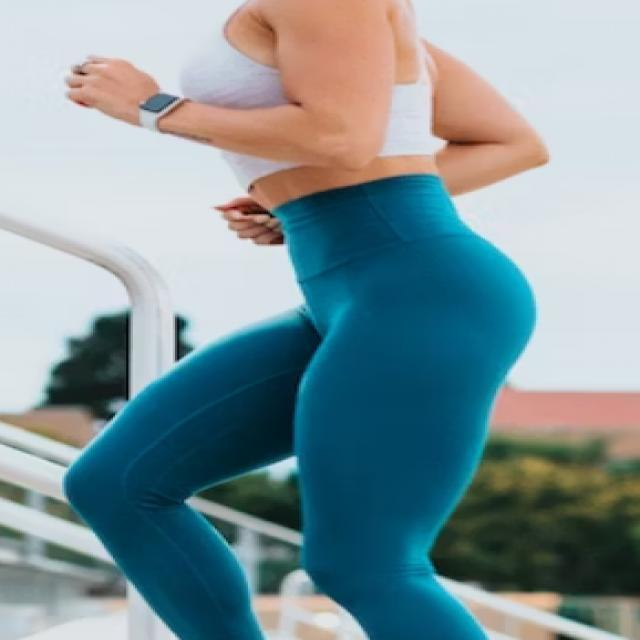Watch: (123, 81, 188, 138)
